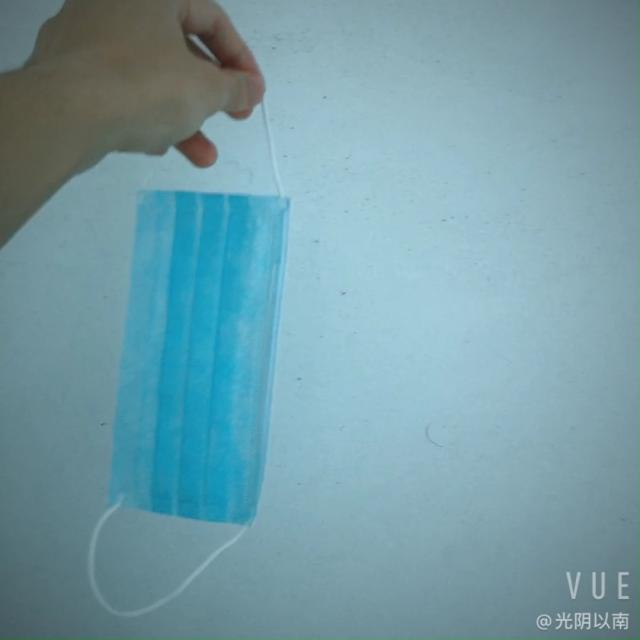non-organic waste: (112, 187, 302, 522)
